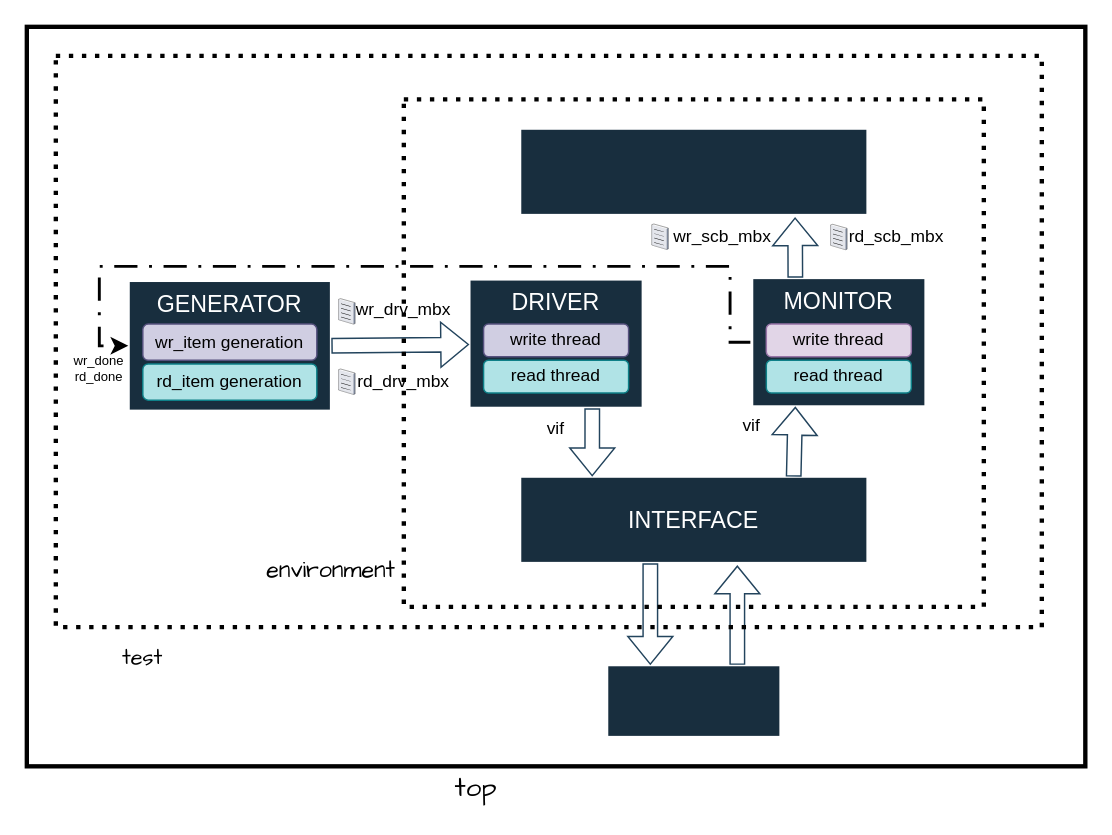
Some shapes in this 1112 by 835 pixel diagram are drawn without their labels. Here are the shapes that lost their labels. From the top down, the centre of each, then its label:
At point (693, 171): "SCOREBOARD".
At point (693, 700): "DUT".
